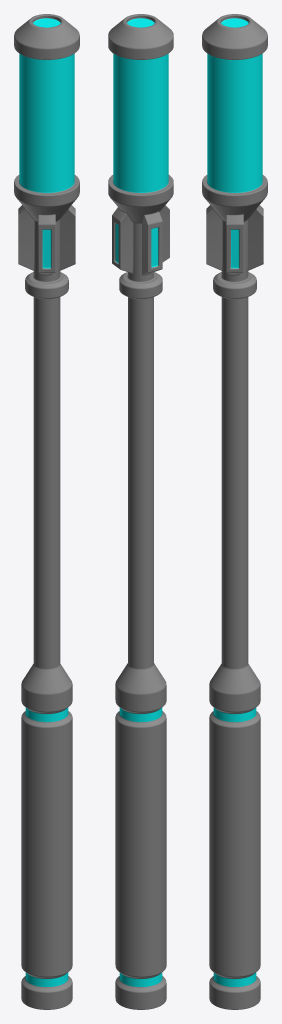
File: StreetLighter_001.fbx
The picture shows the model from 3 angles, left to right: view 1: azimuth 90°, elevation 25°; view 2: azimuth 210°, elevation 25°; view 3: azimuth 270°, elevation 25°; orthographic projection.
Parts seen in each view (by area): view 1: StreetLighter_001; view 2: StreetLighter_001; view 3: StreetLighter_001.
Boxes of the visible parts, <box> form: StreetLighter_001: <box>14,14,79,1009</box>; StreetLighter_001: <box>108,14,173,1009</box>; StreetLighter_001: <box>202,14,267,1009</box>.
Bounding box in the file's own units: 0.6703 × 10.99 × 0.6703.
